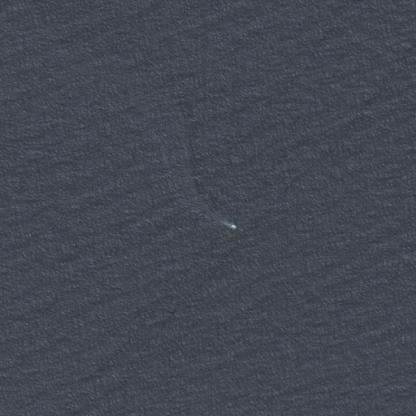ship: (226, 220, 240, 234)
